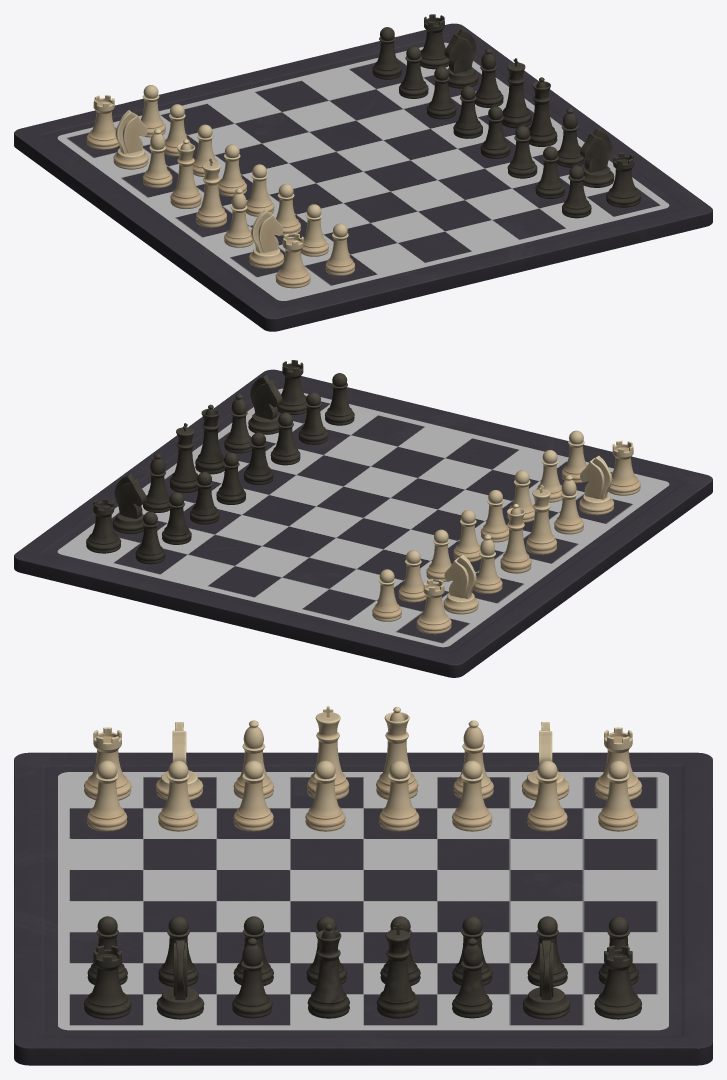
Rendered from SM_Chess_01.fbx.
3 views of the same model, one above another, from view 1: azimuth 30°, elevation 25°; view 2: azimuth 150°, elevation 25°; view 3: azimuth 270°, elevation 25° (orthographic). The views are drawn at different scales.
Parts seen in each view (by area): view 1: SM_Chess_01_LOD0; view 2: SM_Chess_01_LOD0; view 3: SM_Chess_01_LOD0.
Boxes of the visible parts, x1,y1,x2,y2 form: SM_Chess_01_LOD0: (14, 14, 712, 331); SM_Chess_01_LOD0: (14, 360, 712, 677); SM_Chess_01_LOD0: (14, 706, 712, 1065).
Size of the model in its own units: 58.55 by 58.55 by 9.5.
1 material, 1 textured.
